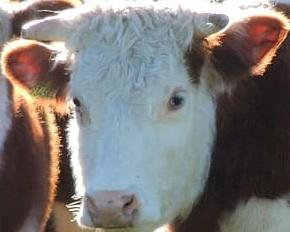muzzles: (71, 188, 147, 231)
